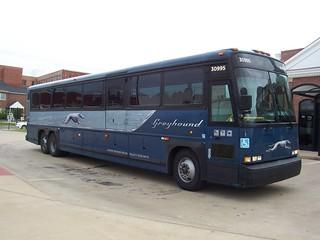bus: (23, 49, 301, 191)
